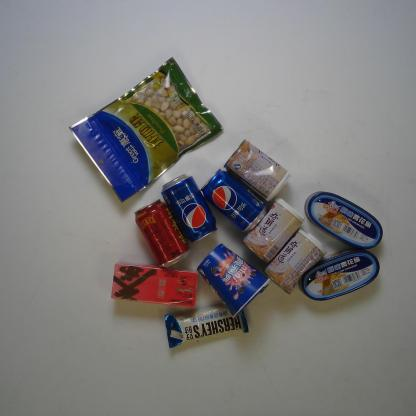Canned Food: (300, 190, 382, 251), (300, 248, 385, 302), (262, 229, 326, 295), (225, 138, 290, 200), (245, 196, 304, 263)
Chocolate: (163, 302, 251, 349)
Dessert: (194, 244, 272, 317)
Dried Fruit: (67, 54, 225, 204)
Drink: (132, 197, 192, 270), (201, 169, 268, 231), (160, 171, 215, 242)
Instant Drink: (110, 263, 200, 307)
